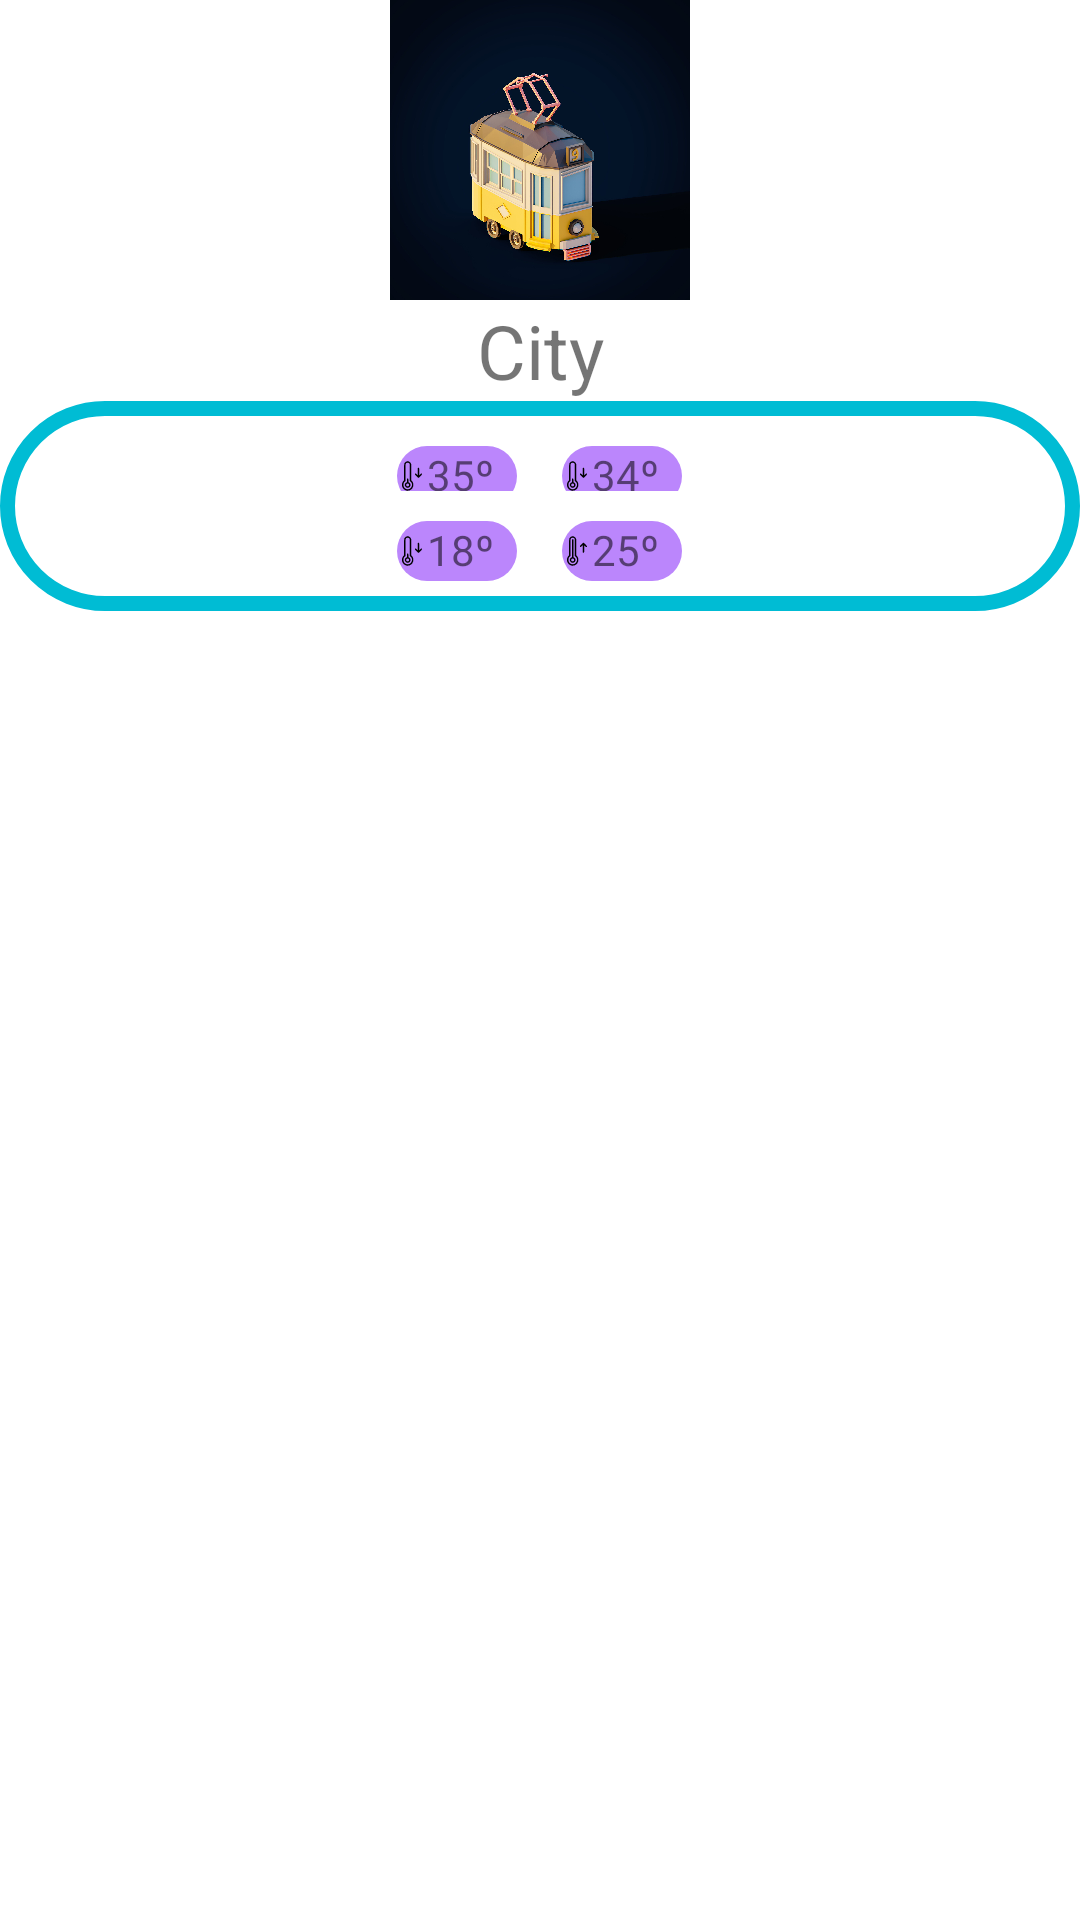

Screen size 1080 x 1920. Icon name, then its center in pixels as [x,y]:
lisbontrain: [540,150]
maxtemperatureicon: [577,551]
